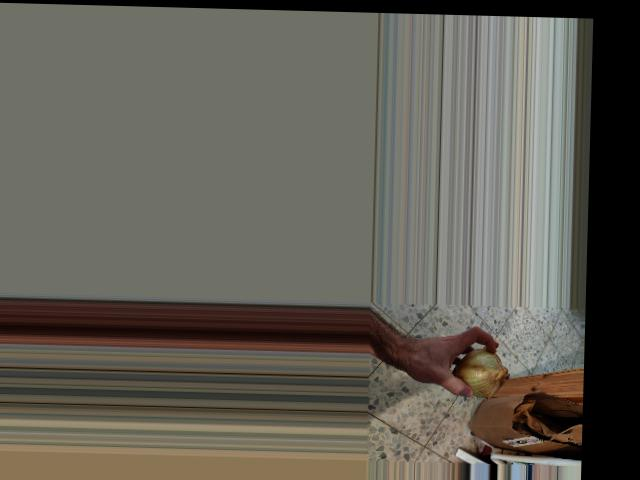onion: (446, 343, 512, 401)
